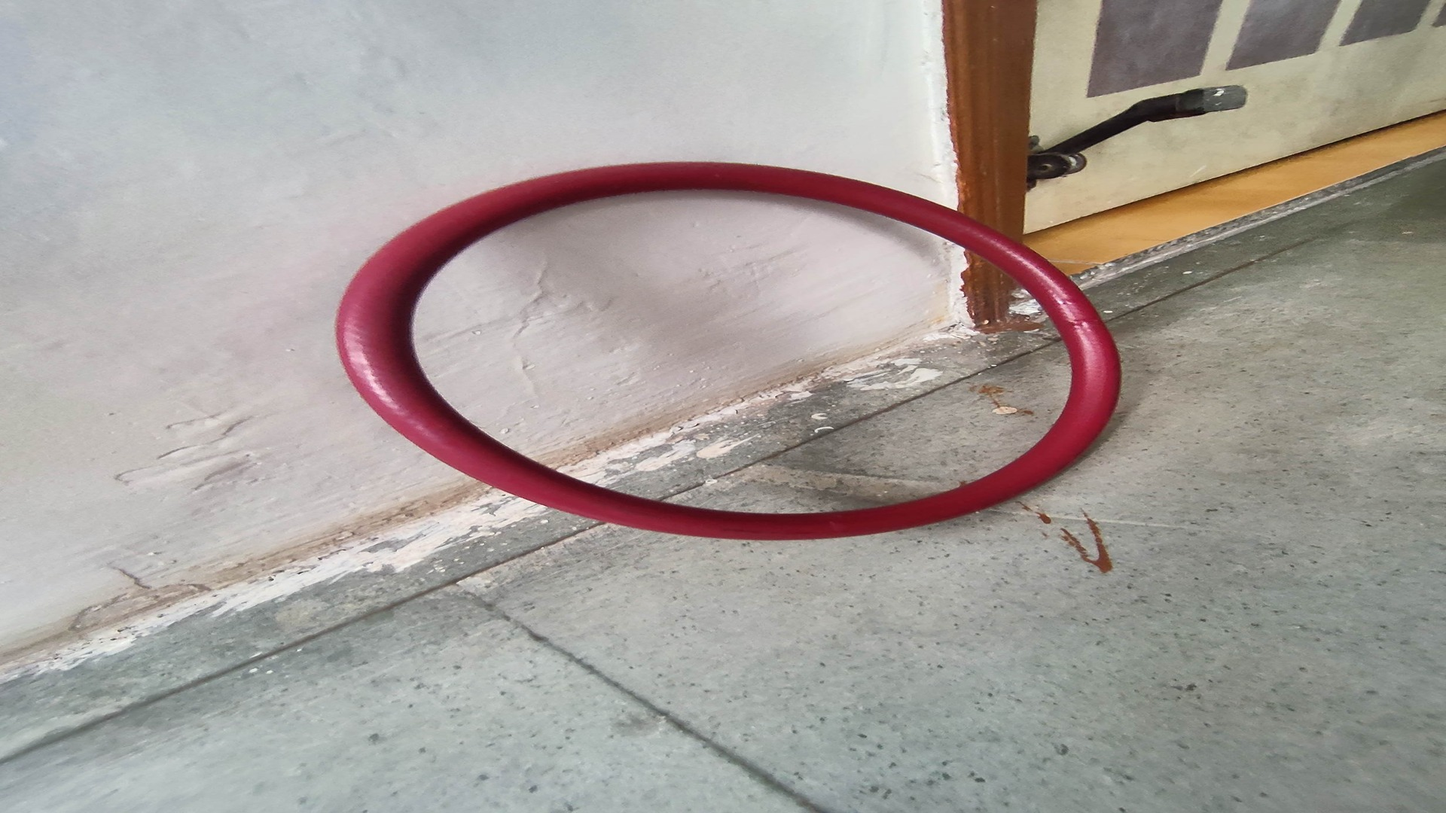Red ring: (337, 162, 1124, 541)
